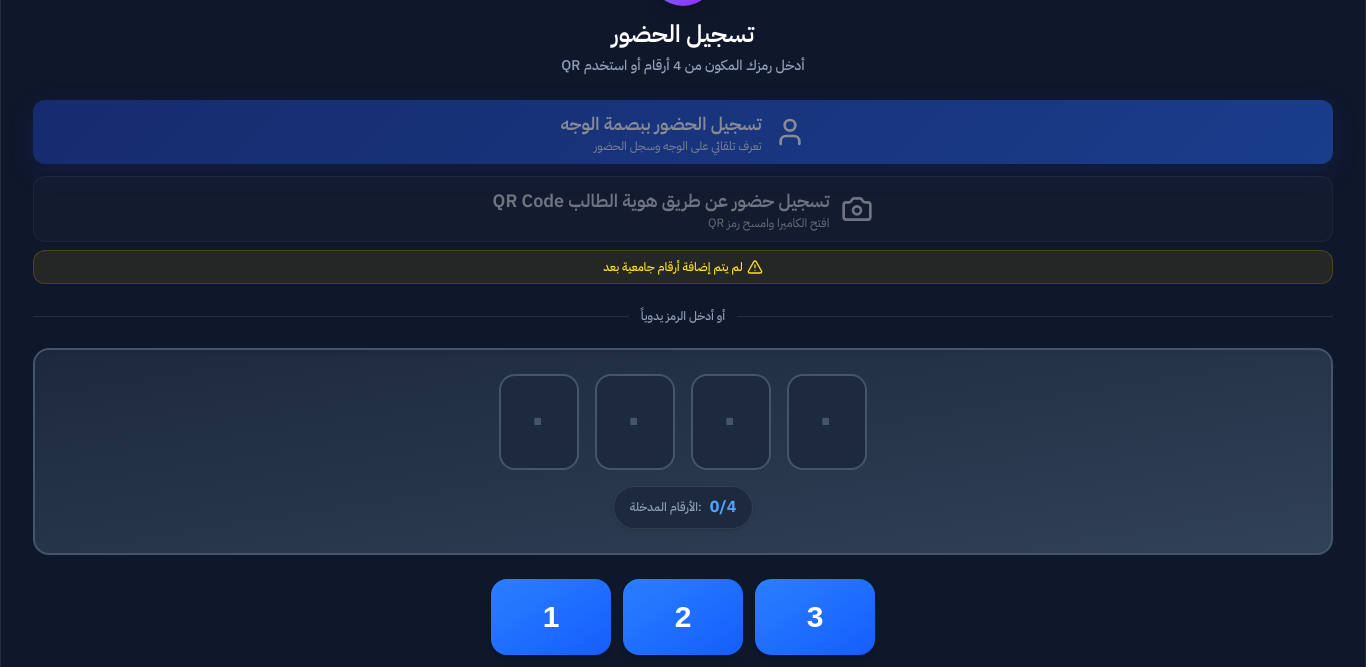
Test: AttendanceLogin › shows error when no active session
The width and height of the screenshot is (1366, 667).
Click the button "1" at (551, 617), box [491,579,611,655]
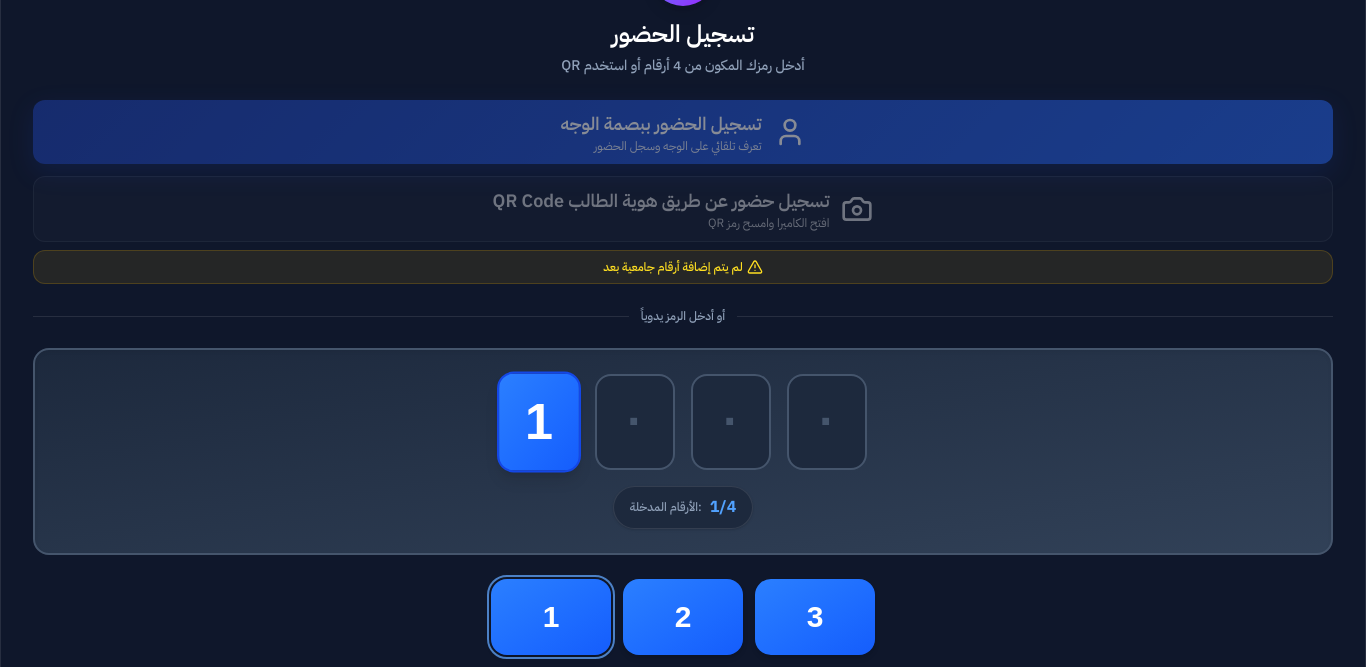
Click the button "2" at (683, 617), box [623,579,743,655]
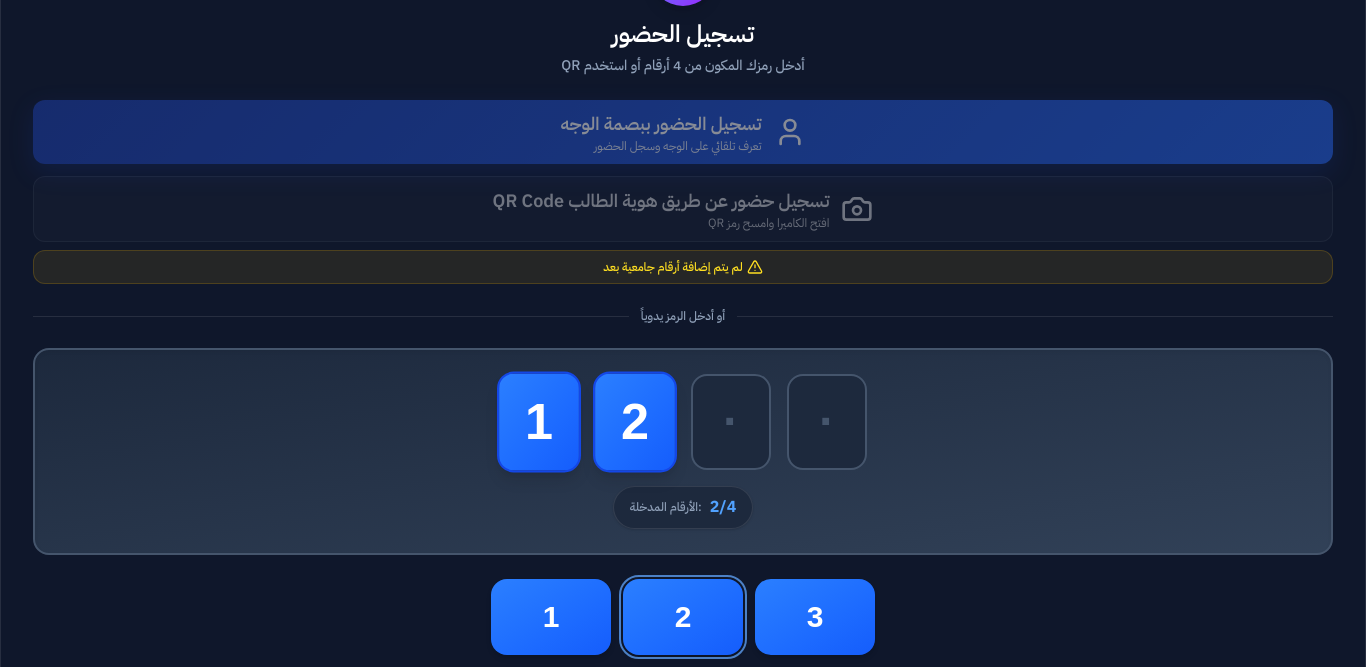
Click the button "3" at (815, 617), box [755,579,875,655]
(page scrolled)
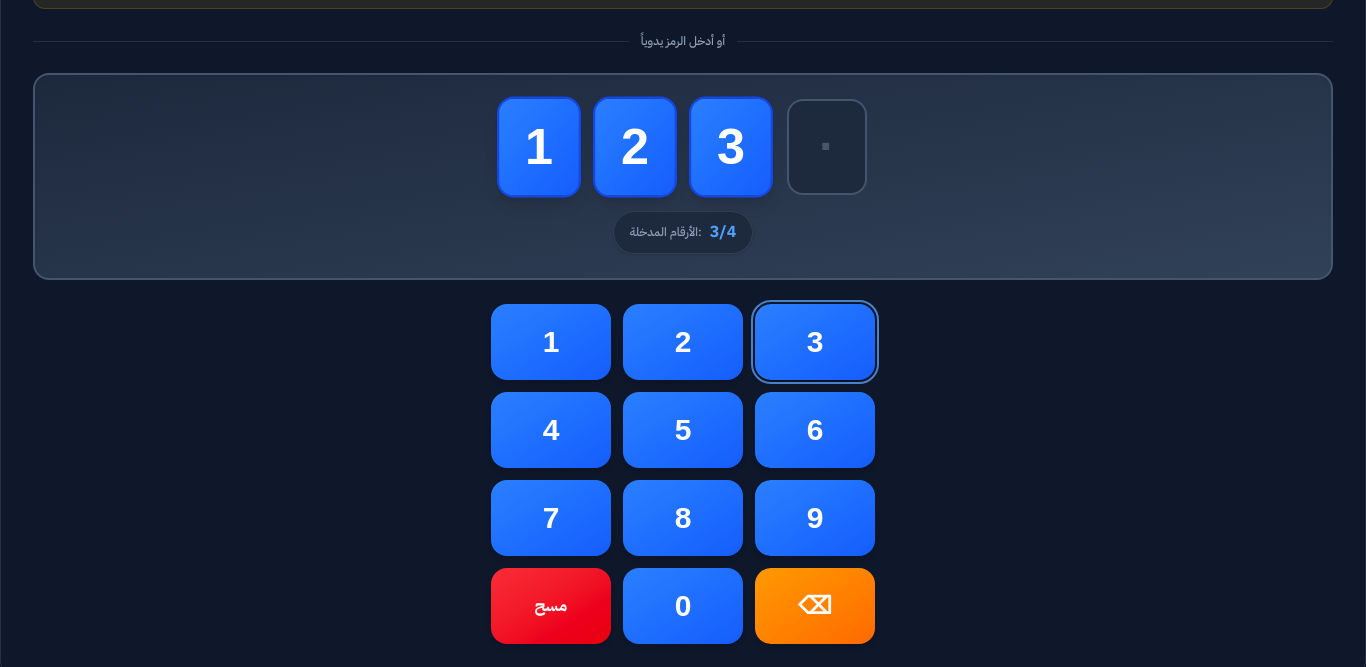
Click the button "4" at (551, 430), box [491,392,611,468]
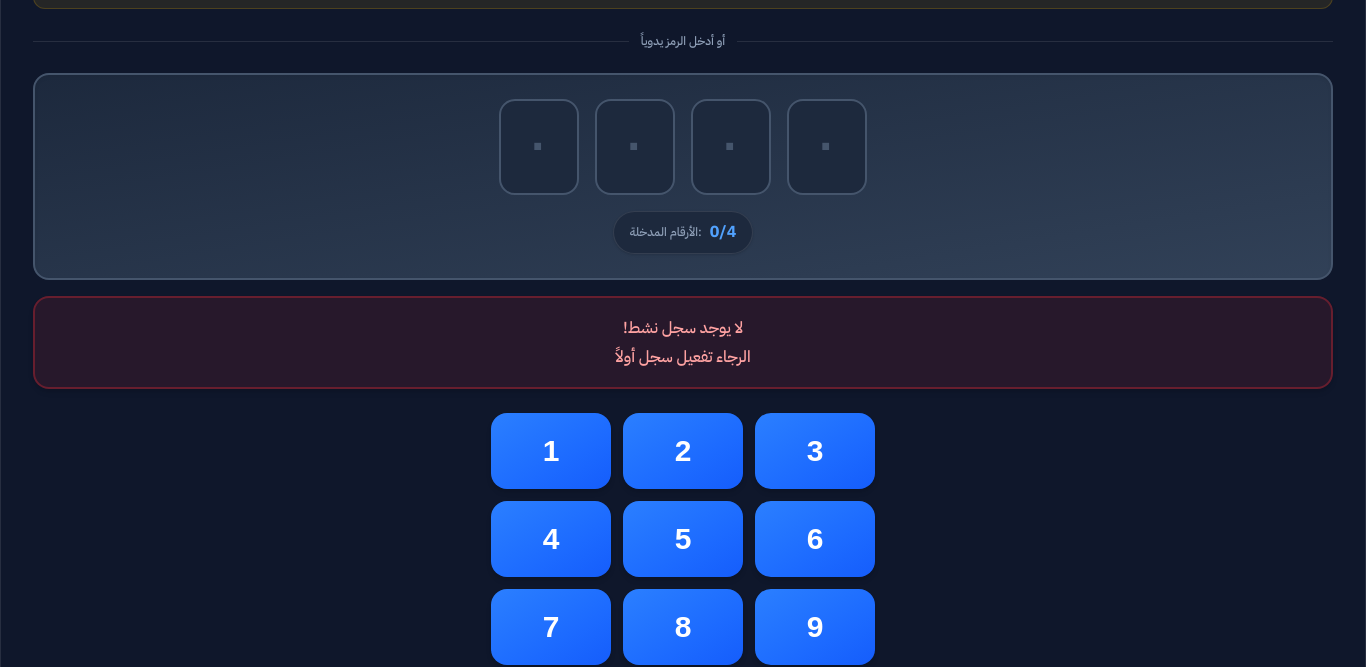
Now the text "لا يوجد سجل نشط! الرجاء تفعيل سجل أولاً" is shown, box [33,296,1333,389]
